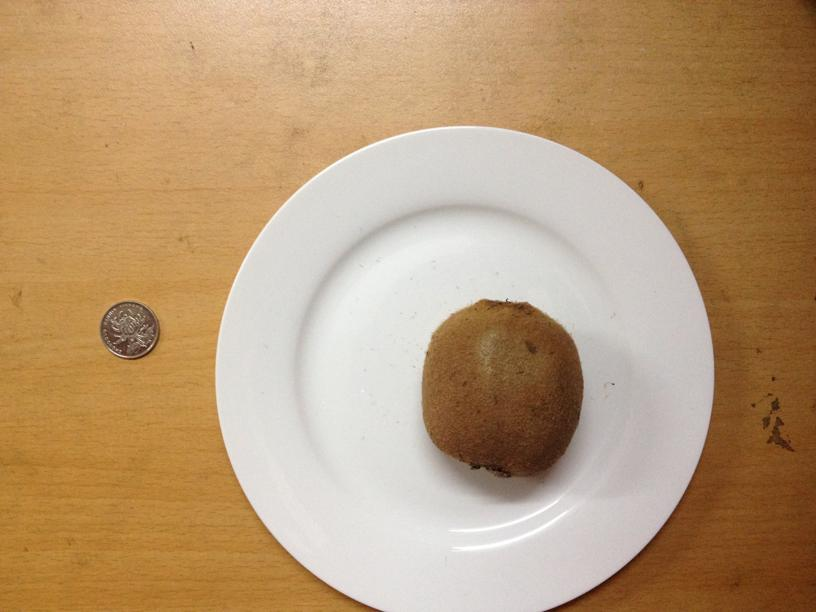coin: (98, 300, 161, 361)
qiwi: (425, 297, 582, 475)
